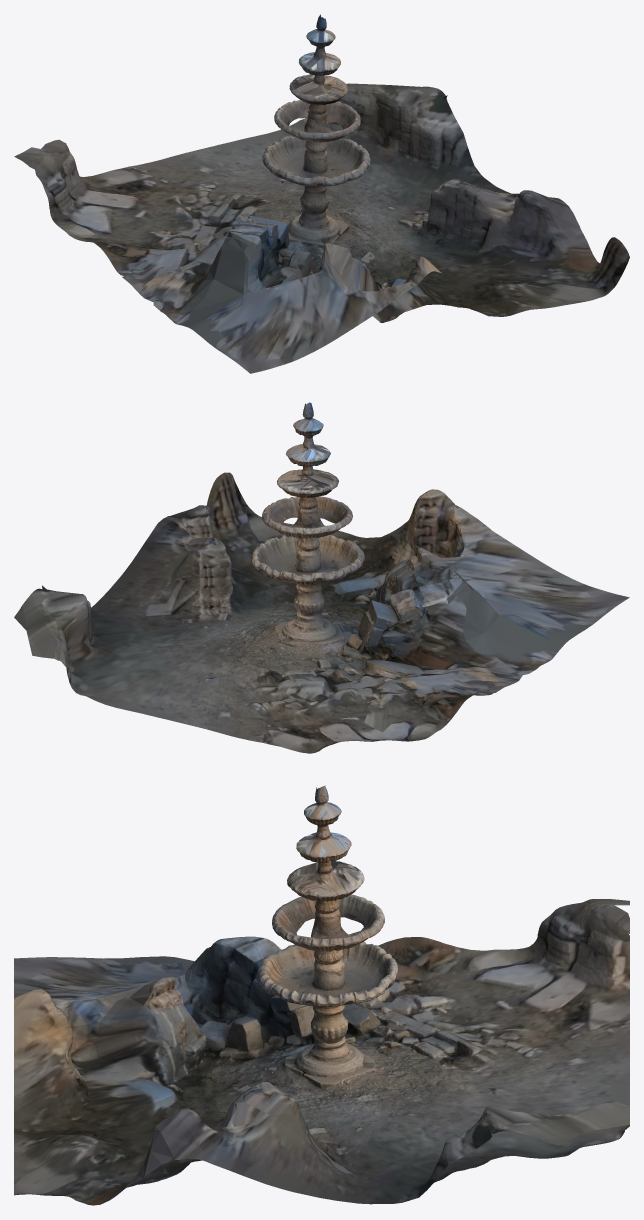
Rendered from fountain.glb.
3 renders of one model, top to bottom at view 1: azimuth 30°, elevation 25°; view 2: azimuth 150°, elevation 25°; view 3: azimuth 270°, elevation 25°, orthographic. The views are drawn at different scales.
Bounding box in the file's own units: 2.73 × 1.63 × 2.95.
1 material, 1 textured.
